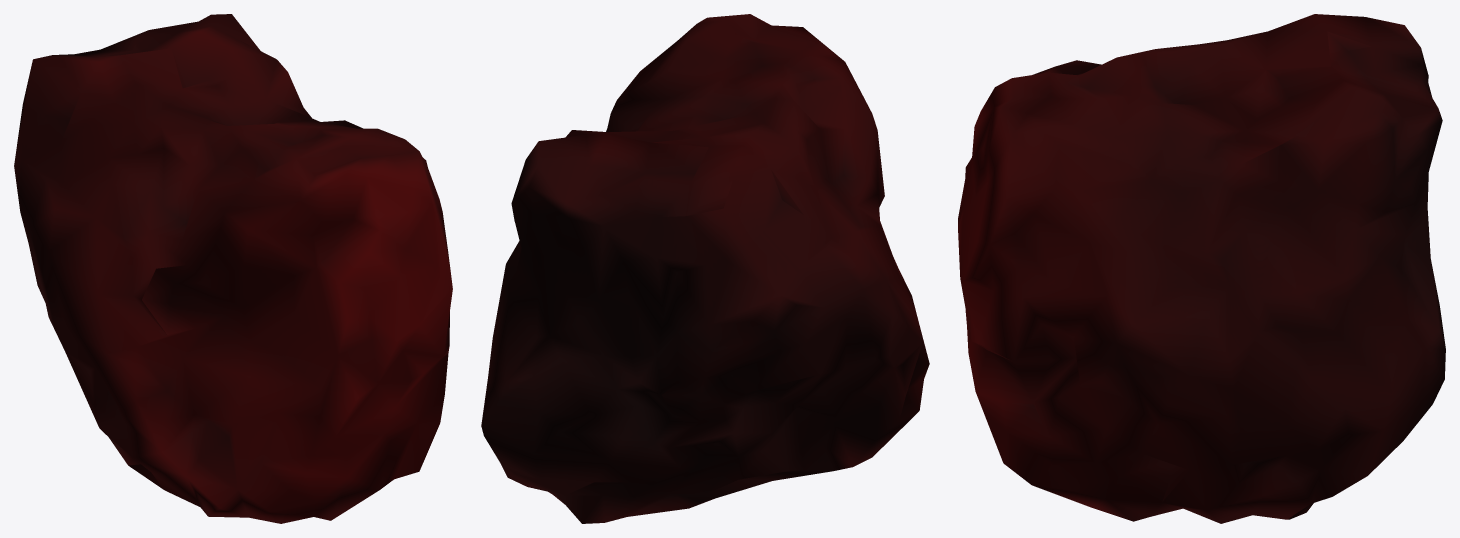
The model's file is geology-rocks-meteoritelarge_v2.fbx.
3 renders of one model, left to right at view 1: azimuth 30°, elevation 25°; view 2: azimuth 150°, elevation 25°; view 3: azimuth 270°, elevation 25°, orthographic. The views are drawn at different scales.
Parts seen in each view (by area): view 1: MeteoriteLarge_v2; view 2: MeteoriteLarge_v2; view 3: MeteoriteLarge_v2.
Part boxes in pixels (x1,y1,x2,y2): MeteoriteLarge_v2: (14,14,452,523); MeteoriteLarge_v2: (481,14,929,523); MeteoriteLarge_v2: (958,14,1445,523).
Size of the model in its own units: 4.72 by 5.12 by 5.38.
